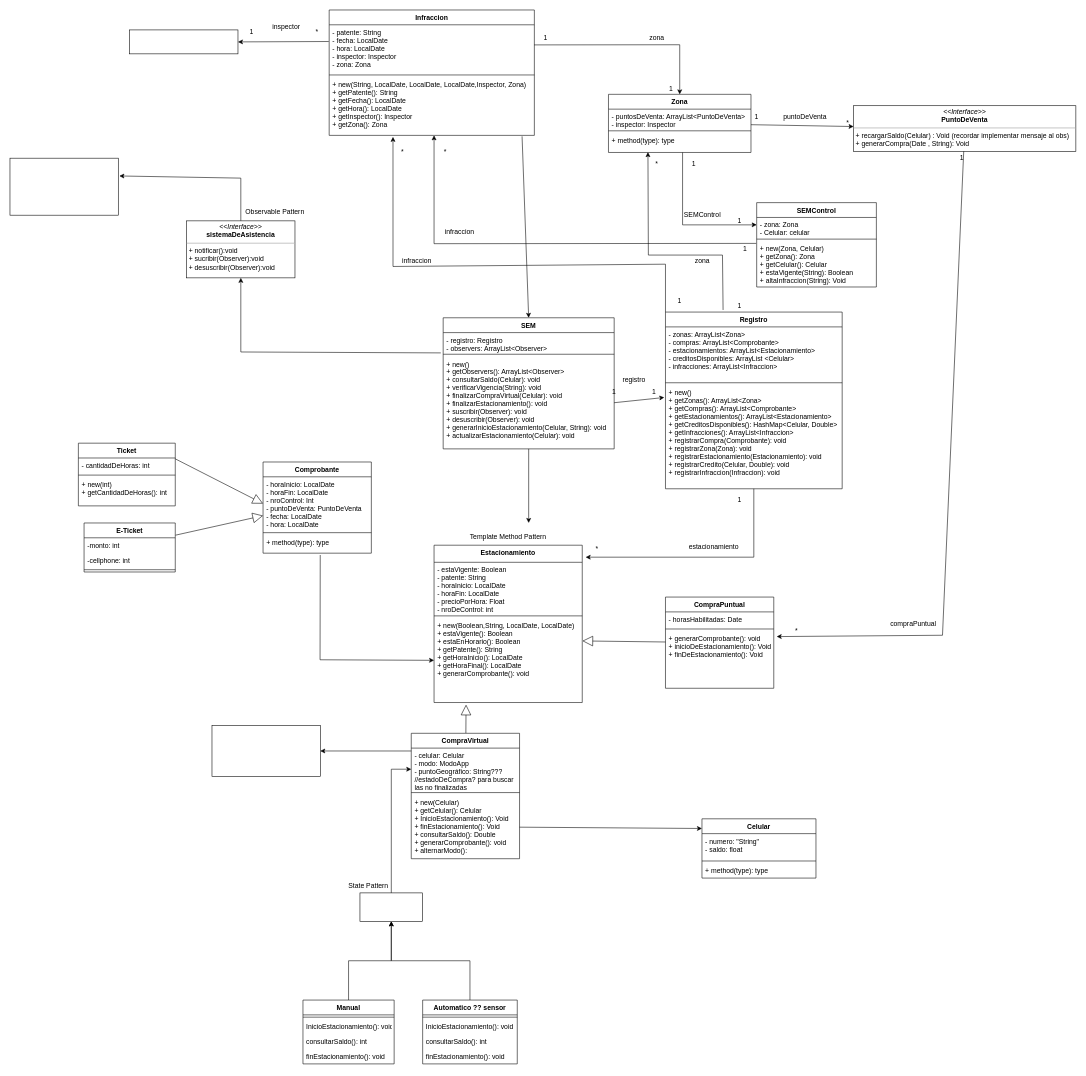
Image size: 1086x1076. Some labels were removed from this diagram. Each missing label, with the centre of its shape:
<<Interface>> Inspector: the point at 183,41
<<Interface>> MovementSensor + driving(); + walking();: the point at 265,751
<<Interface>> Observer + update(): void: the point at 63,186
«interface» ModoApp: the point at 391,906
